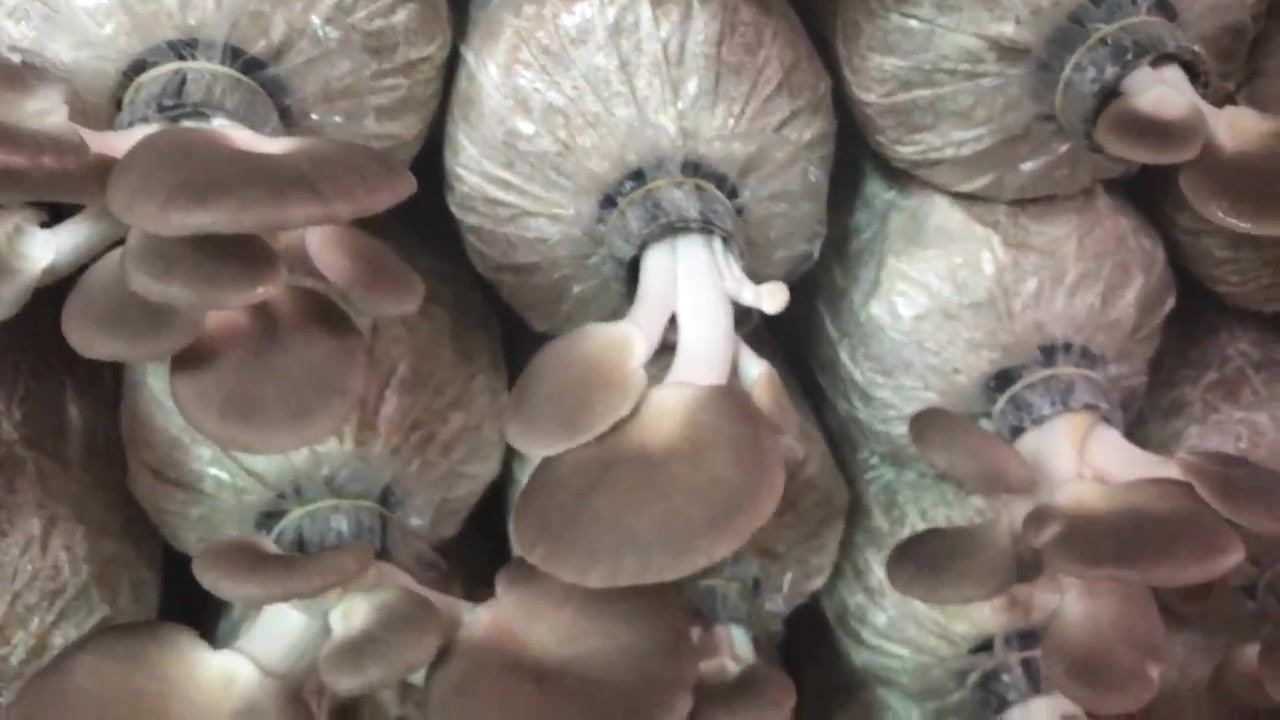nam: (1, 46, 430, 453), (6, 507, 800, 720), (882, 368, 1280, 713), (511, 178, 795, 588), (1066, 17, 1280, 239)
